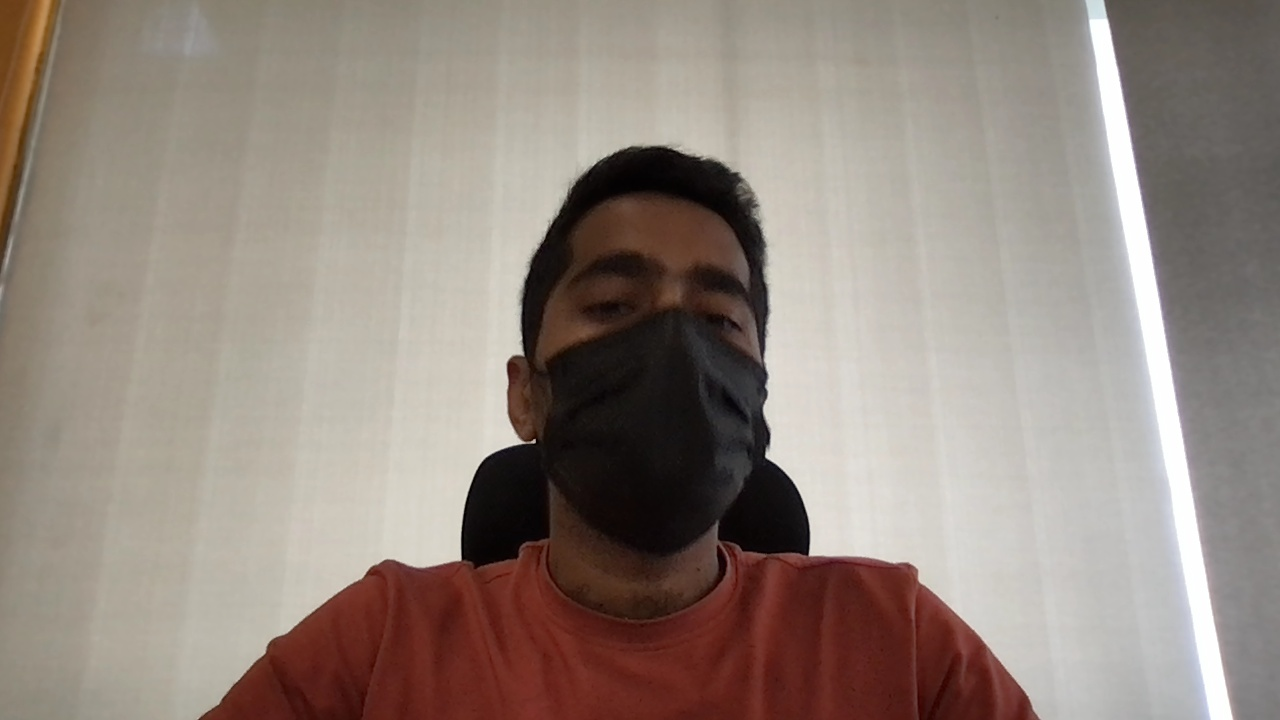mask: (546, 309, 771, 552)
